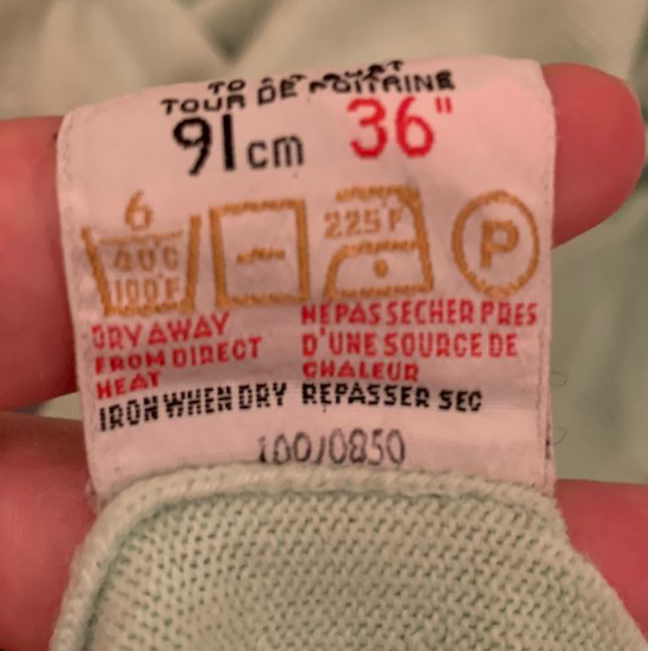dry_clean_tetrachloroethylene_pce_only: (449, 186, 541, 297)
dry_flat: (210, 193, 312, 308)
